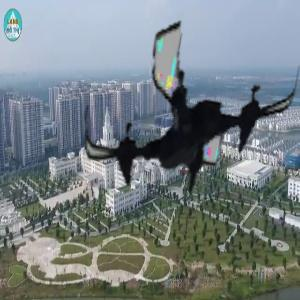drone: (85, 14, 293, 222)
